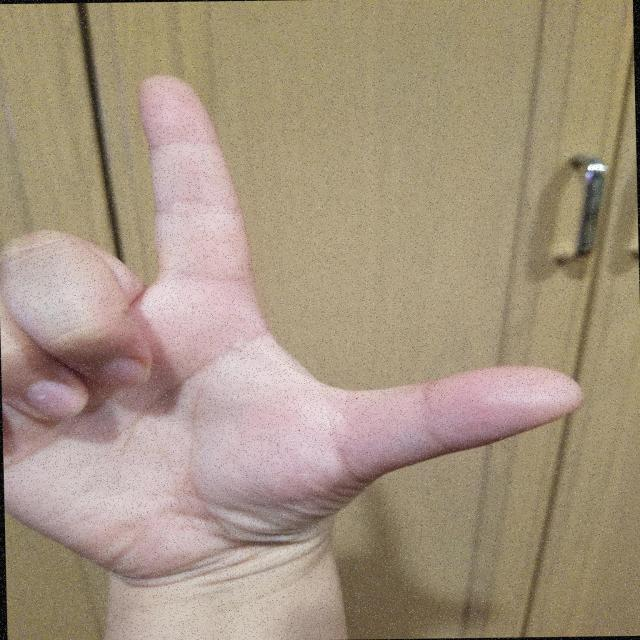L: (0, 62, 601, 597)
